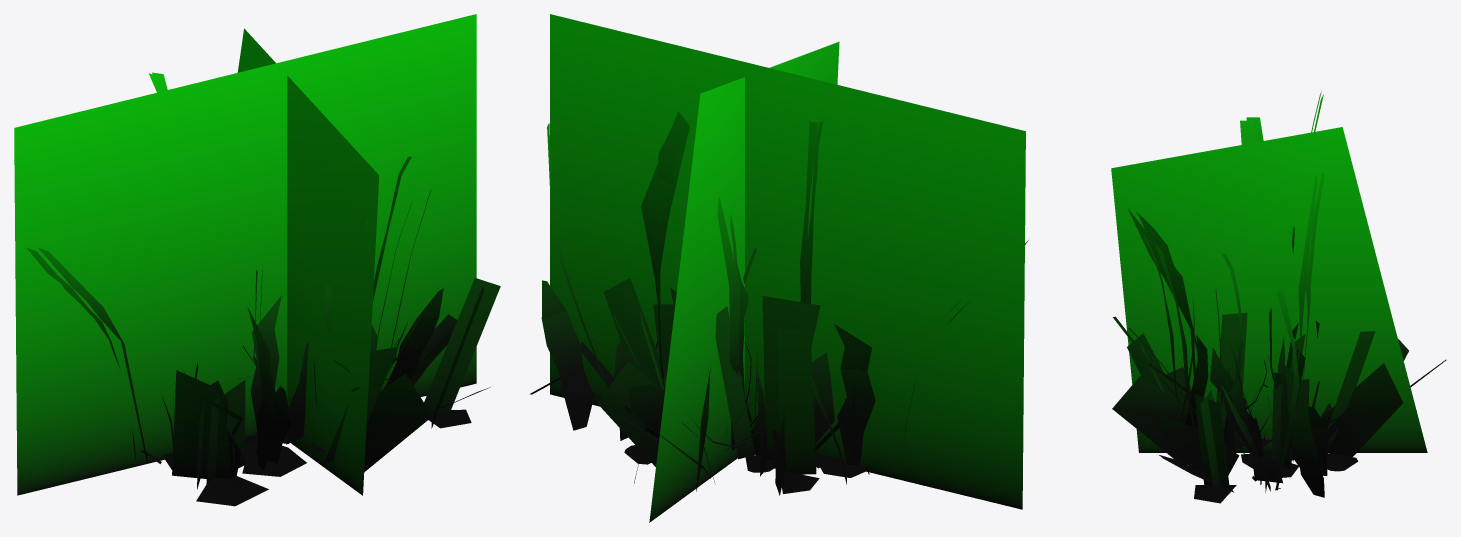
The model's file is MSH_Field_Grass_A.fbx.
3 views of the same model, side by side, from view 1: azimuth 30°, elevation 25°; view 2: azimuth 150°, elevation 25°; view 3: azimuth 270°, elevation 25° (orthographic). The views are drawn at different scales.
Visible parts, largest first — view 1: Field_Grass_A_LOD2_GEO, Field_Grass_A_LOD1_GEO, Field_Grass_A_LOD0_GEO; view 2: Field_Grass_A_LOD2_GEO, Field_Grass_A_LOD1_GEO, Field_Grass_A_LOD0_GEO; view 3: Field_Grass_A_LOD2_GEO, Field_Grass_A_LOD1_GEO, Field_Grass_A_LOD0_GEO.
Part boxes in pixels (bbox=[...]): Field_Grass_A_LOD2_GEO: bbox=[14, 14, 476, 495]; Field_Grass_A_LOD1_GEO: bbox=[38, 72, 500, 506]; Field_Grass_A_LOD0_GEO: bbox=[26, 73, 490, 477]; Field_Grass_A_LOD2_GEO: bbox=[550, 14, 1025, 522]; Field_Grass_A_LOD1_GEO: bbox=[530, 111, 961, 493]; Field_Grass_A_LOD0_GEO: bbox=[541, 115, 1028, 495]; Field_Grass_A_LOD2_GEO: bbox=[1111, 127, 1427, 452]; Field_Grass_A_LOD1_GEO: bbox=[1112, 94, 1446, 503]; Field_Grass_A_LOD0_GEO: bbox=[1128, 91, 1358, 497].
Size of the model in its own units: 81.9 by 64.9 by 63.36.
